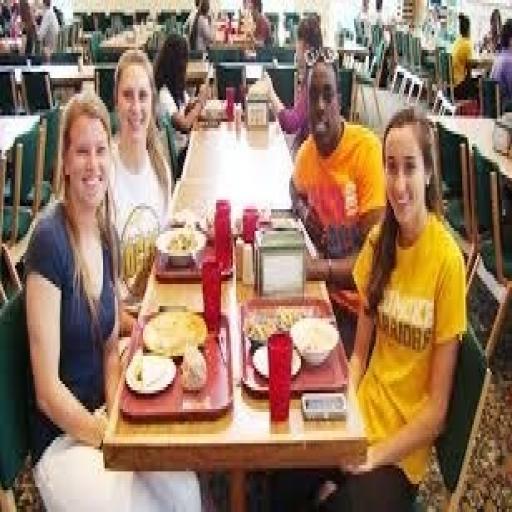eating: (20, 18, 469, 502)
